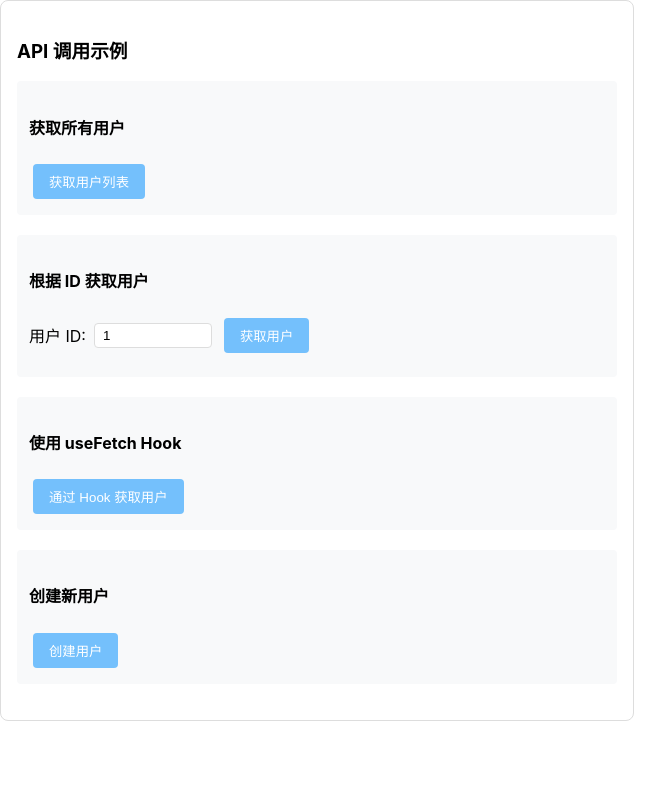
ApiExample组件 › 根据ID获取用户功能 › 应该处理获取用户的错误
Click the button with test id "get-user-button": (267, 335) x1=224 y1=318 x2=309 y2=352
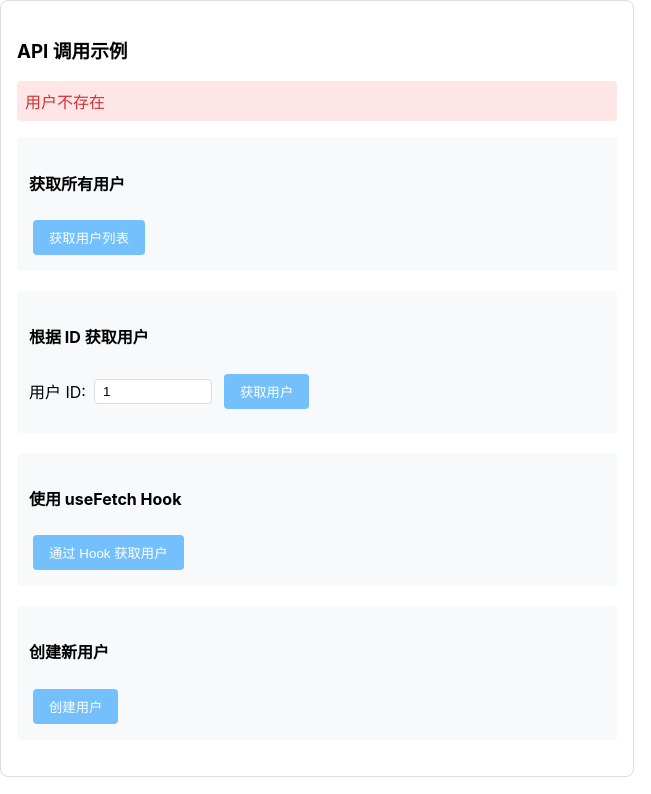
Check: the text "用户不存在" is shown, box x1=17 y1=81 x2=617 y2=121
